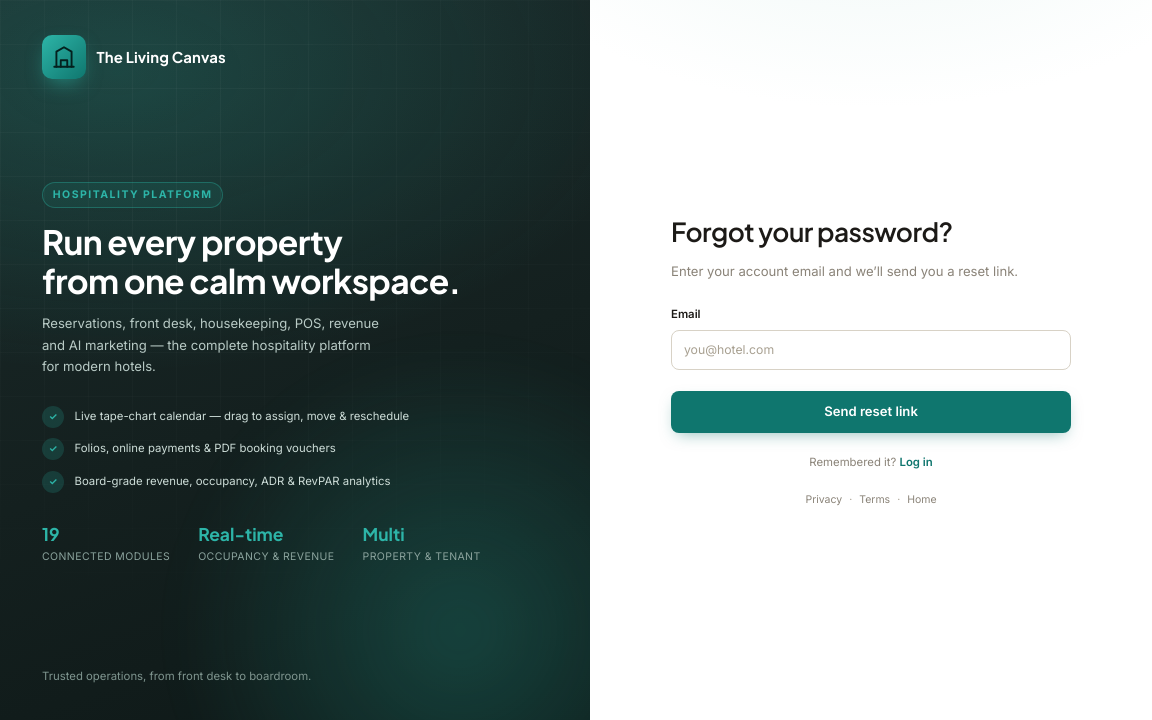
Test: ForgotPasswordPage › confirms without revealing whether the account exists
The image size is (1152, 720).
Step 1. Type "me@hotel.com" into the field labelled "Email" → x=871, y=350, box [671,330,1071,370]
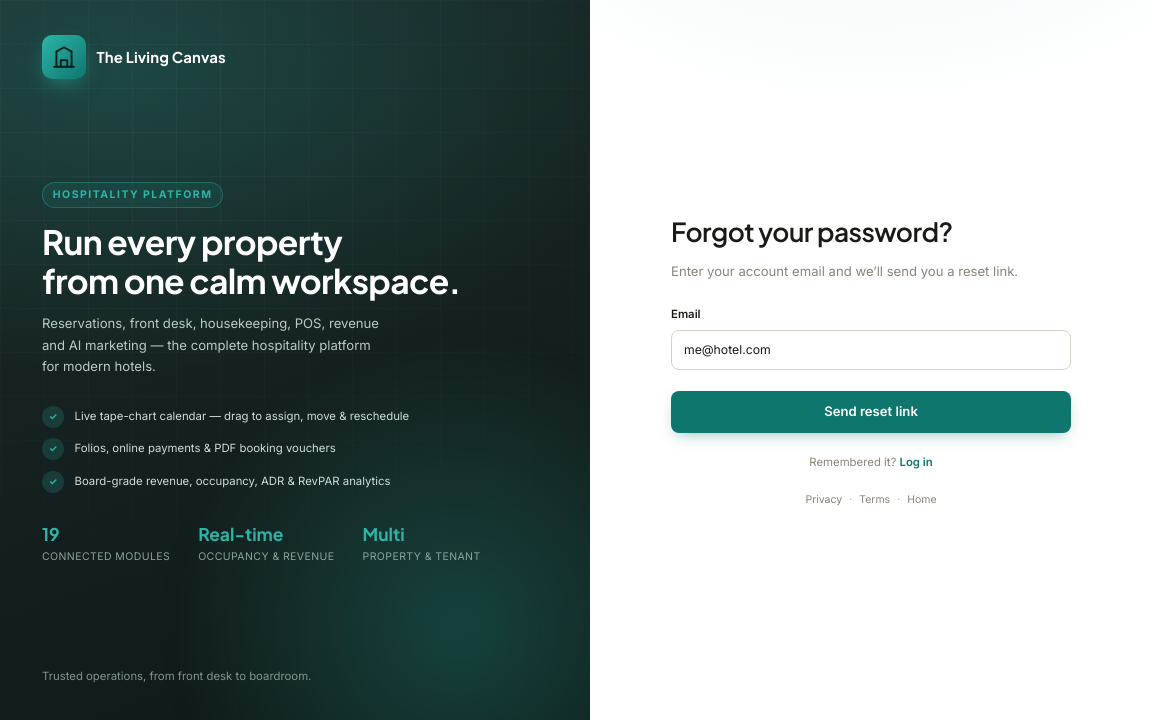
Step 2. Click the button "Send reset link" → x=871, y=412, box [671,391,1071,433]
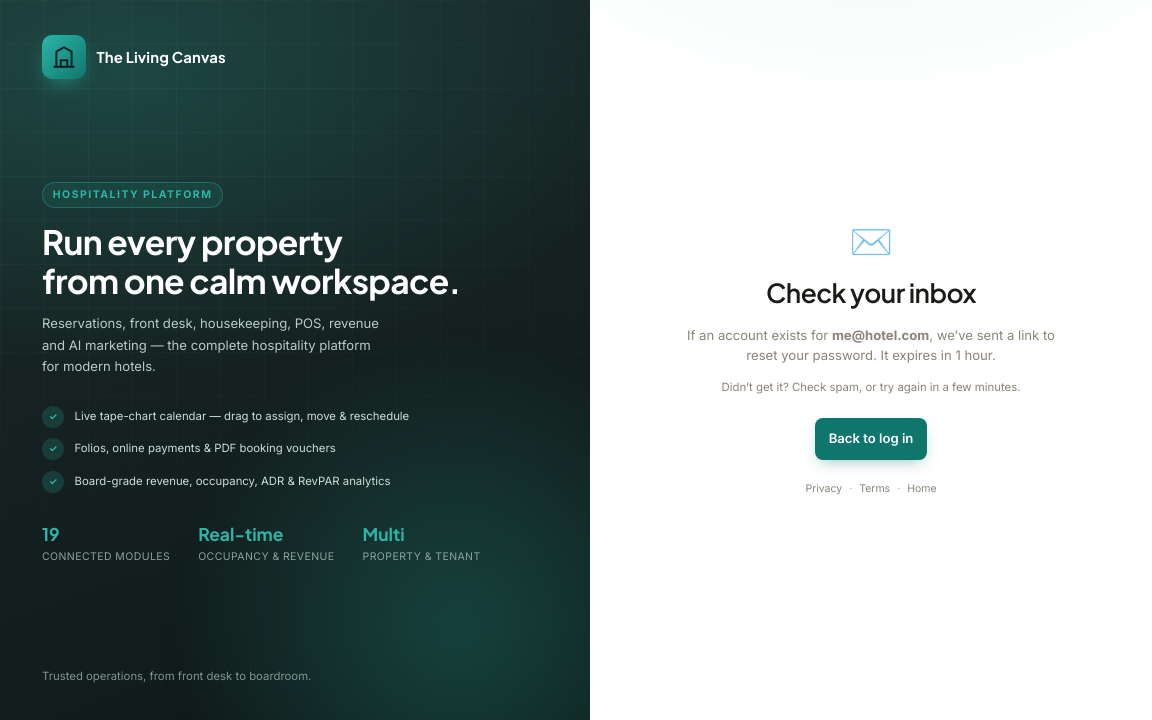
Result: the heading "Check your inbox" is shown at [766,273,976,312]
Result: the text "If an account exists" is shown at [687,327,832,343]
